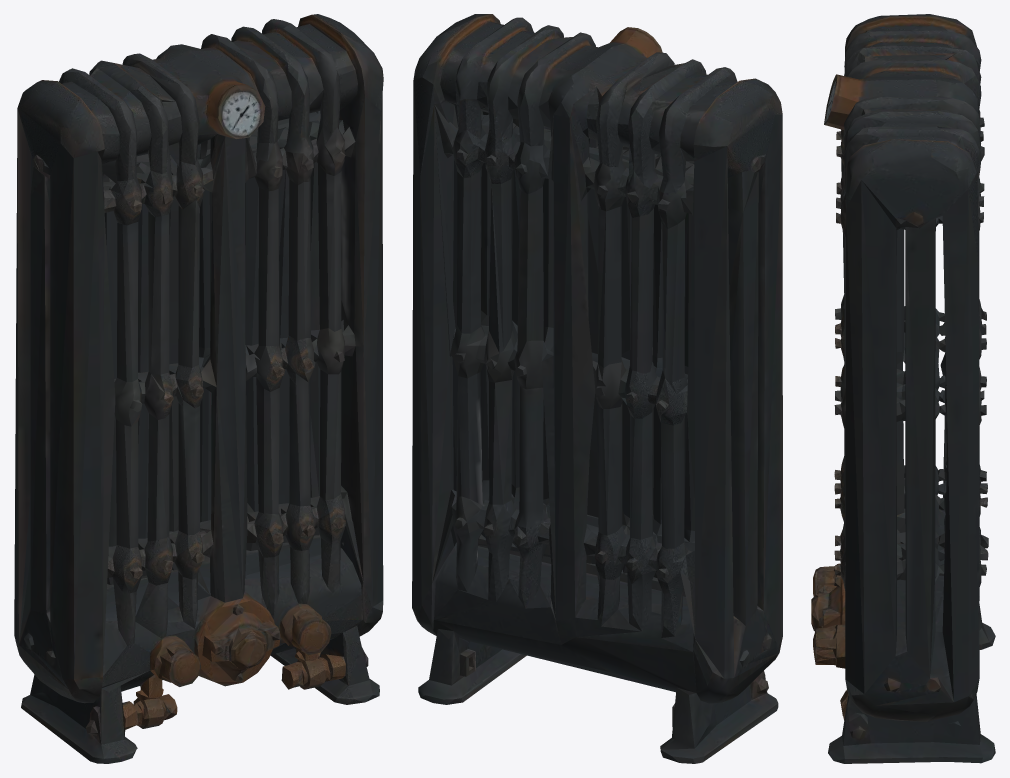
File: heater.glb
The picture shows the model from 3 angles, left to right: view 1: azimuth 30°, elevation 25°; view 2: azimuth 150°, elevation 25°; view 3: azimuth 270°, elevation 25°; orthographic projection. The views are drawn at different scales.
Bounding box in the file's own units: 1 × 1.9 × 0.5131.
Materials: 1 (1 with a texture image).
